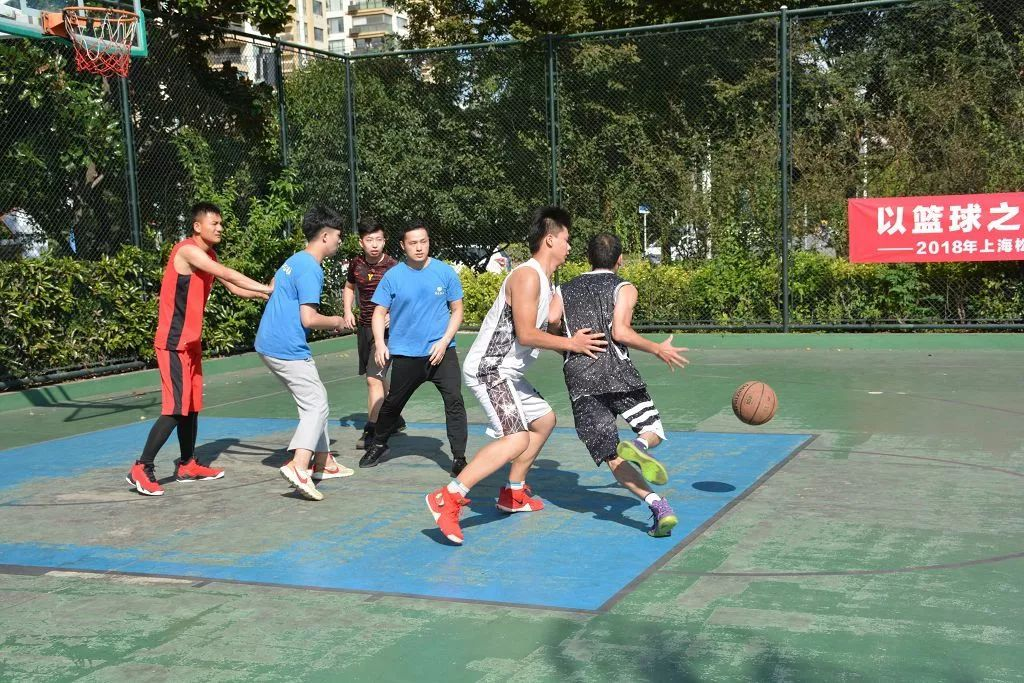ball: (733, 382, 777, 427)
